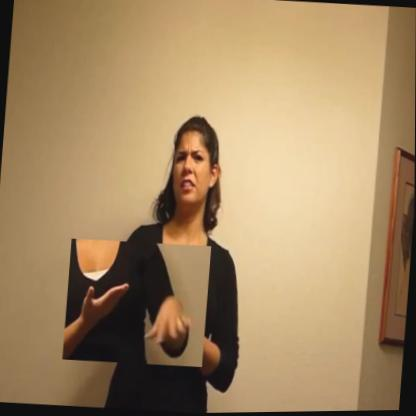Expensive: (63, 237, 212, 370)
